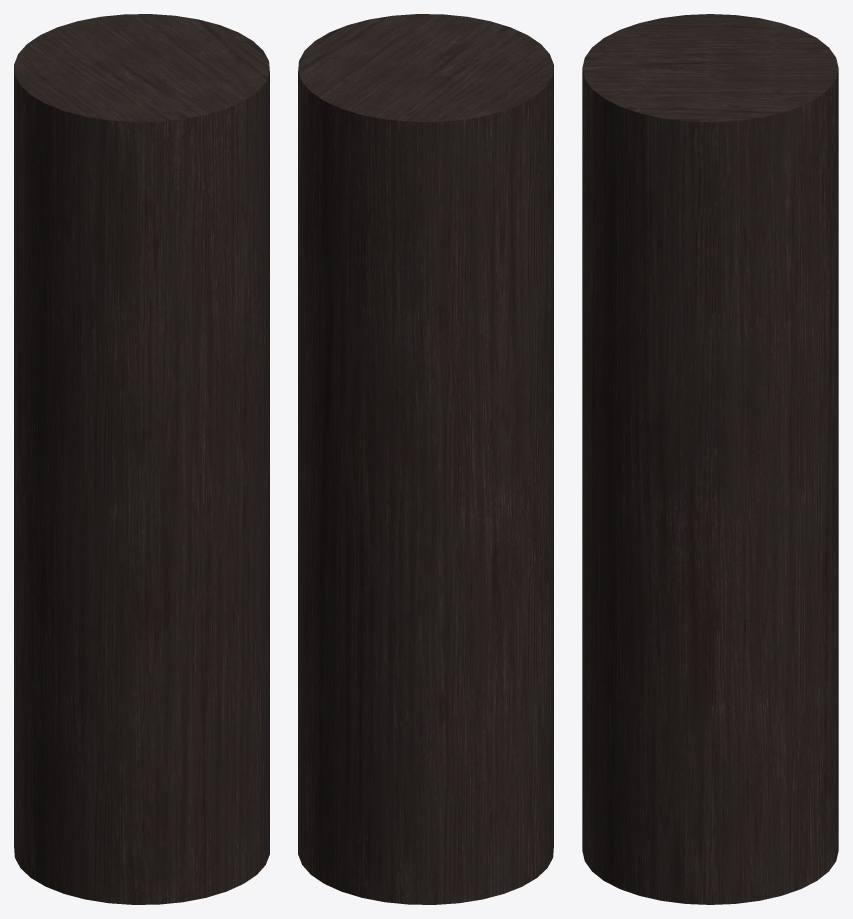
The model's file is SimplePillar-wood.glb.
The picture shows the model from 3 angles, left to right: view 1: azimuth 30°, elevation 25°; view 2: azimuth 150°, elevation 25°; view 3: azimuth 270°, elevation 25°; orthographic projection.
Parts seen in each view (by area): view 1: Pillar; view 2: Pillar; view 3: Pillar.
Boxes of the visible parts, x1,y1,x2,y2 form: Pillar: (14,14,269,904); Pillar: (298,14,553,904); Pillar: (582,14,838,904).
Bounding box in the file's own units: 0.8903 × 3 × 0.8903.
Materials: 1 (1 with a texture image).
